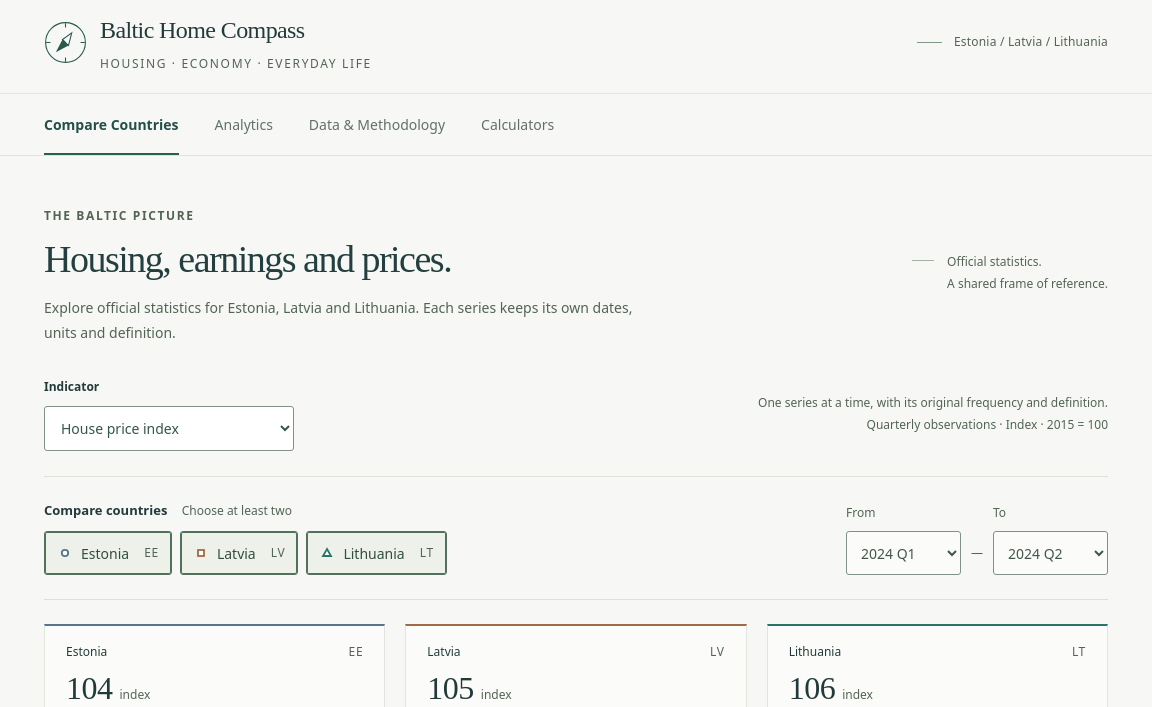
Test: comparison controls › switches frequencies, resets dates and keeps the country selection
Click the button "Lithuania LT": (377, 553) [306,531,447,575]
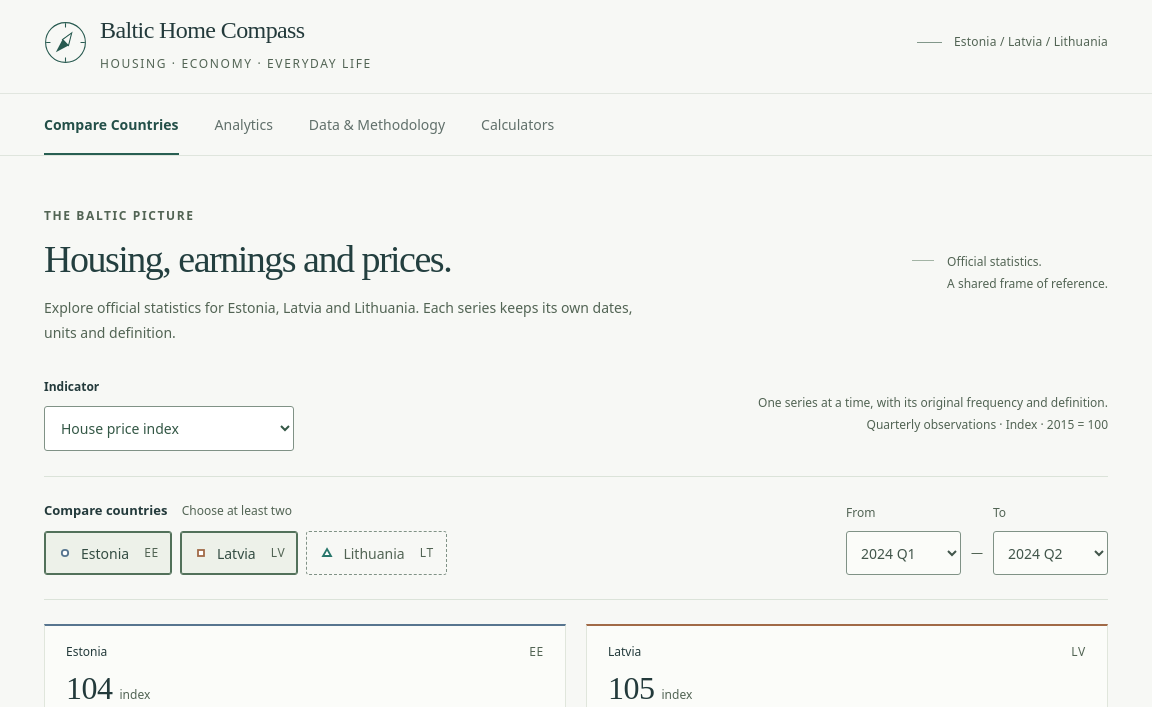
Select "2024 Q2" in the dropdown labelled "From": (904, 553) [846,531,961,575]
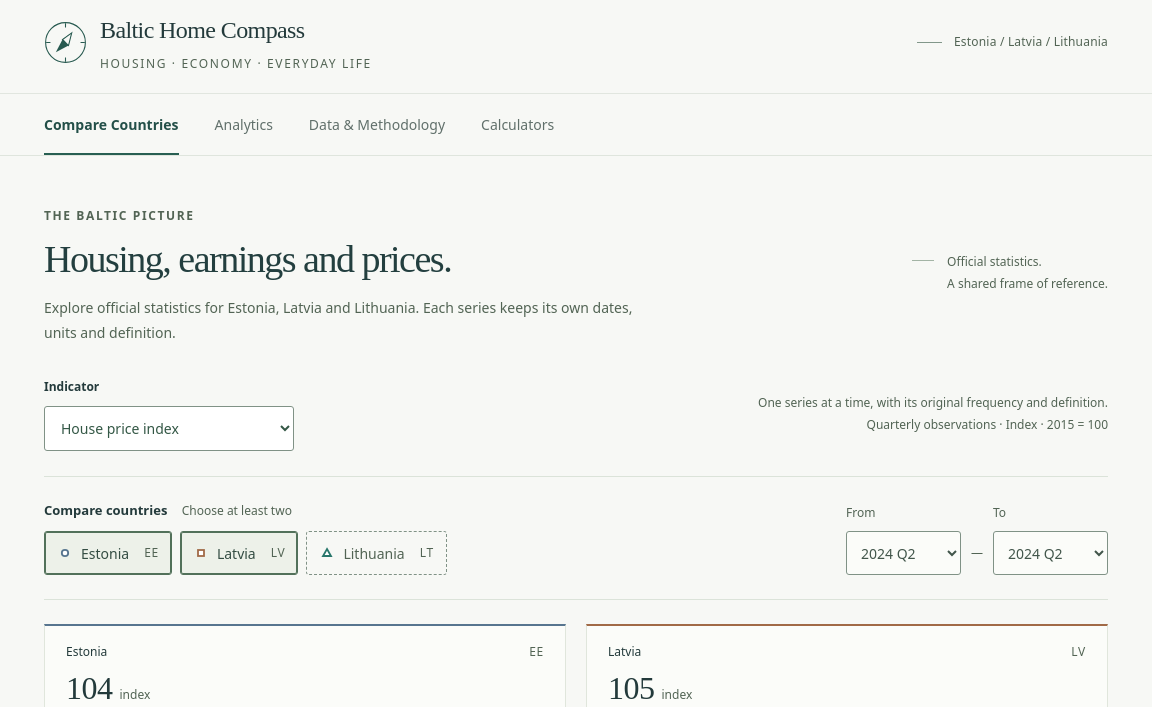
Select "Annual net earnings" in the dropdown labelled "Indicator": (169, 428) [44,406,294,451]
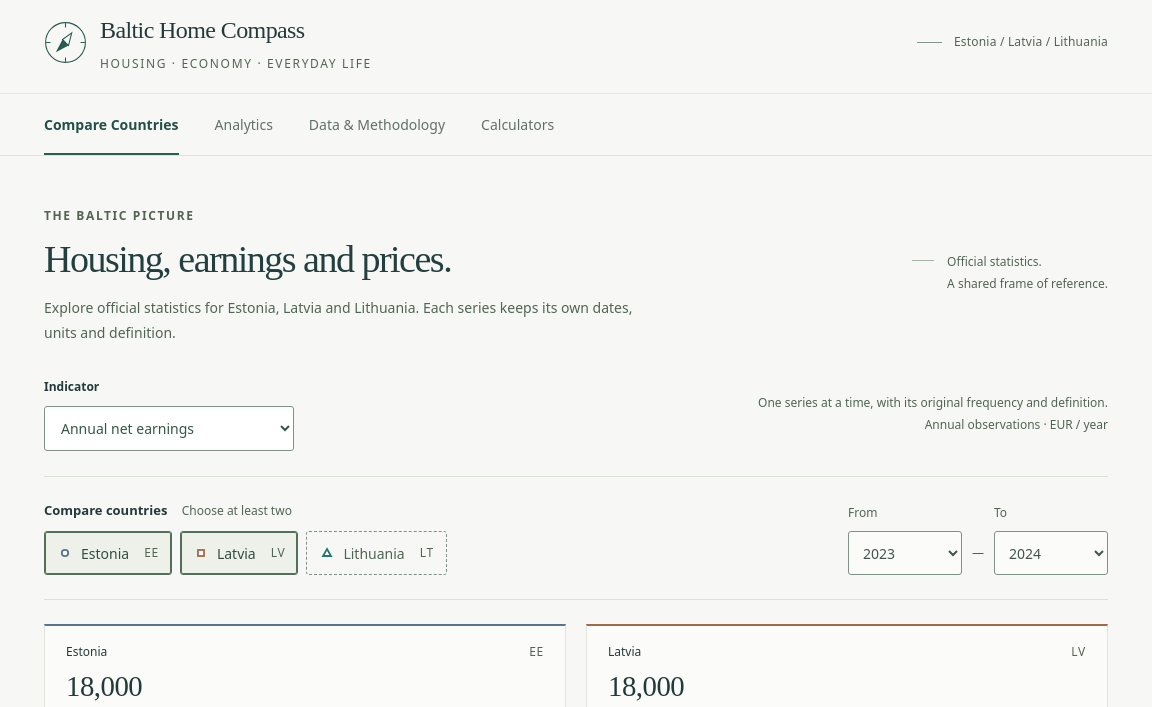
Result: the dropdown labelled "To" shows "2024" at [994,531,1108,575]
Select "Consumer price index" in the dropdown labelled "Indicator": (169, 428) [44,406,294,451]
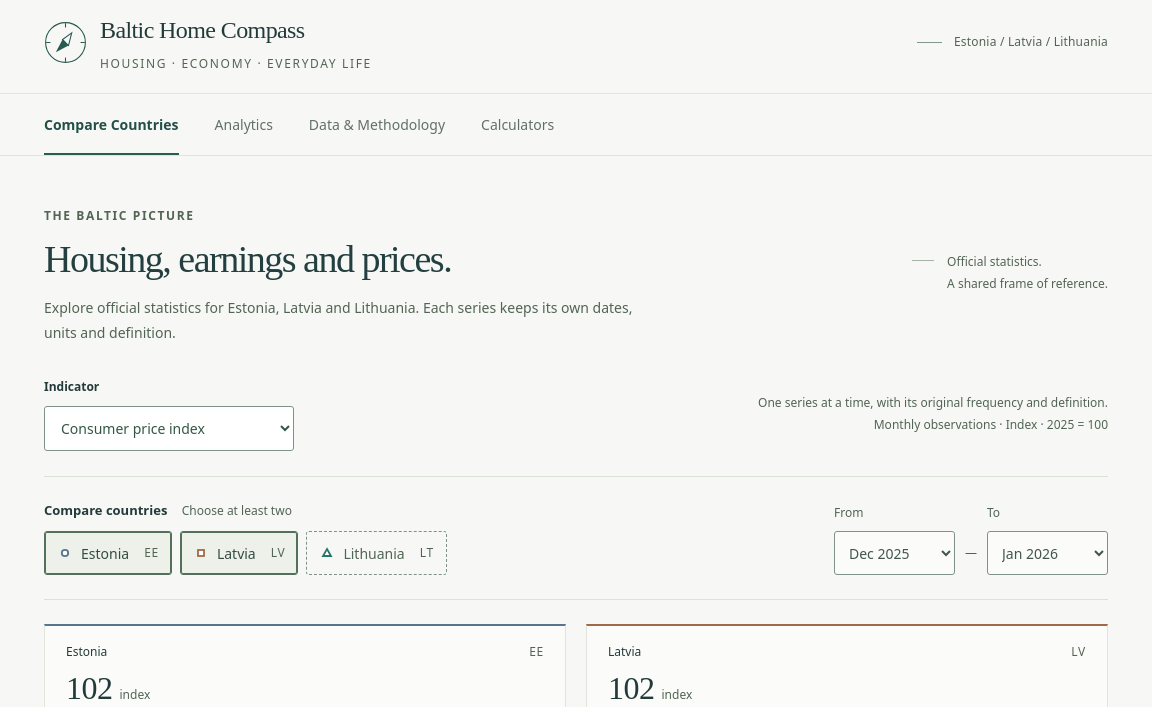
Select "Jan 2026" in the dropdown labelled "From": (894, 553) [834,531,955,575]
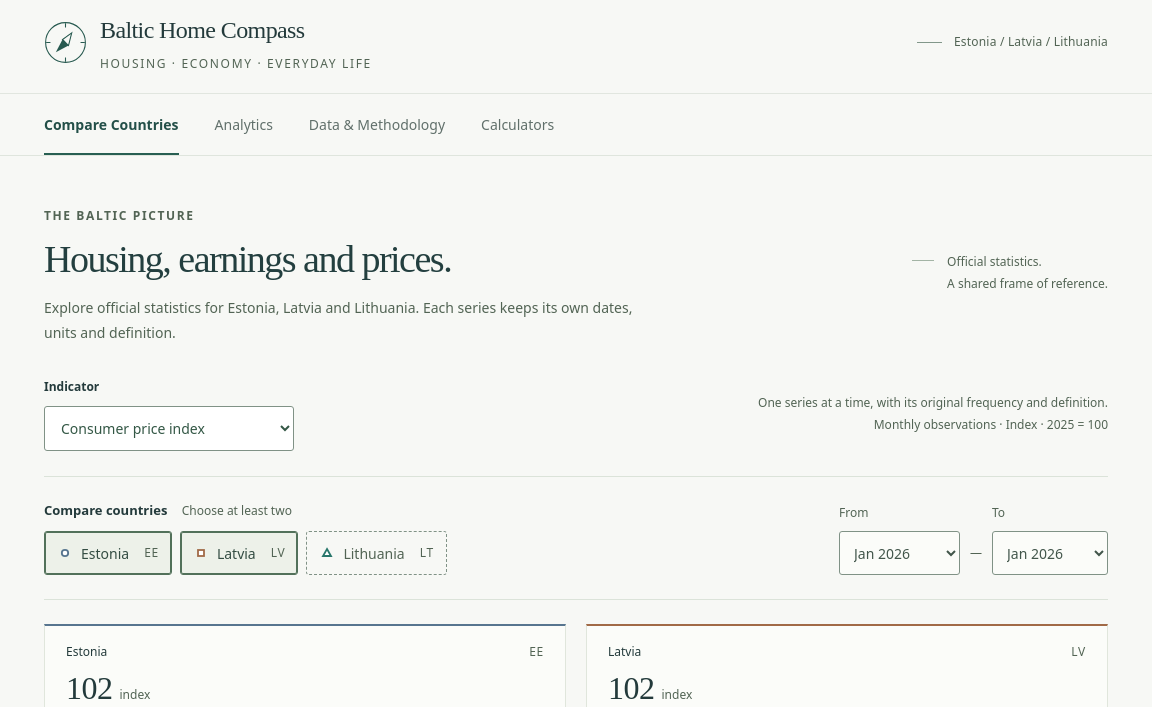
Select "Annual inflation" in the dropdown labelled "Indicator": (169, 428) [44,406,294,451]
(page scrolled)
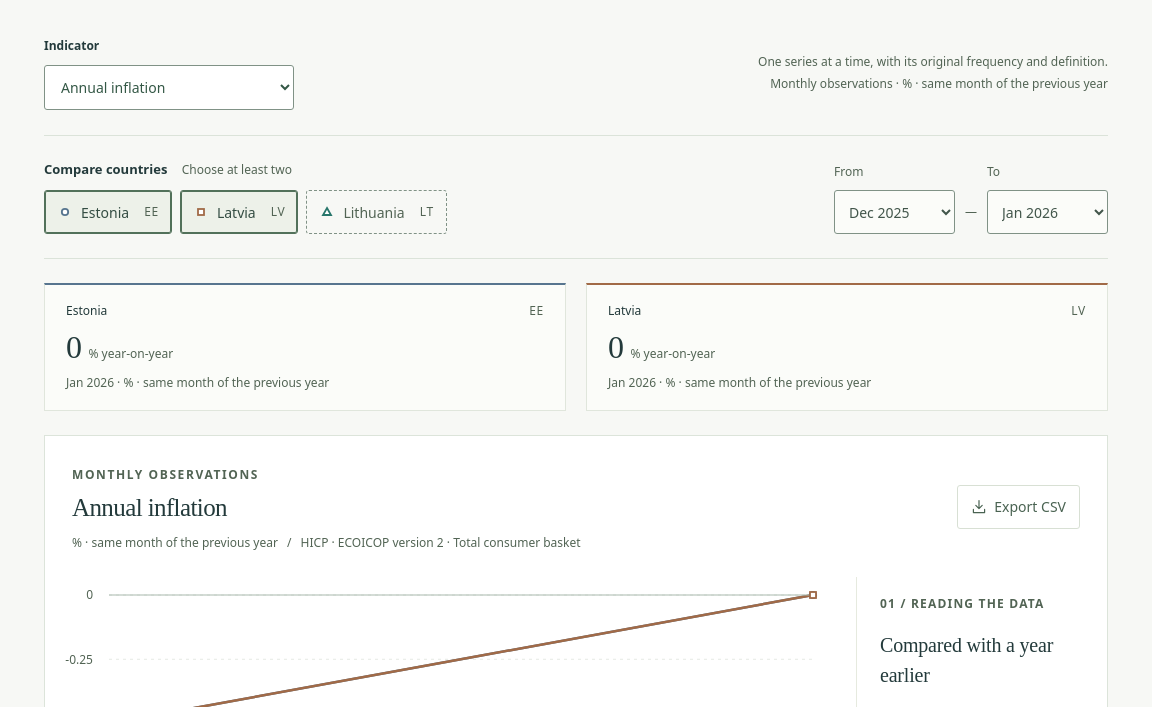
Result: the dropdown labelled "To" shows "Jan 2026" at [987,190,1108,234]
Result: the heading "Annual inflation" is shown at [72,494,227,521]
Result: the element named "Latest available value in the selected period" shows "% year-on-year" at [88,345,173,362]
